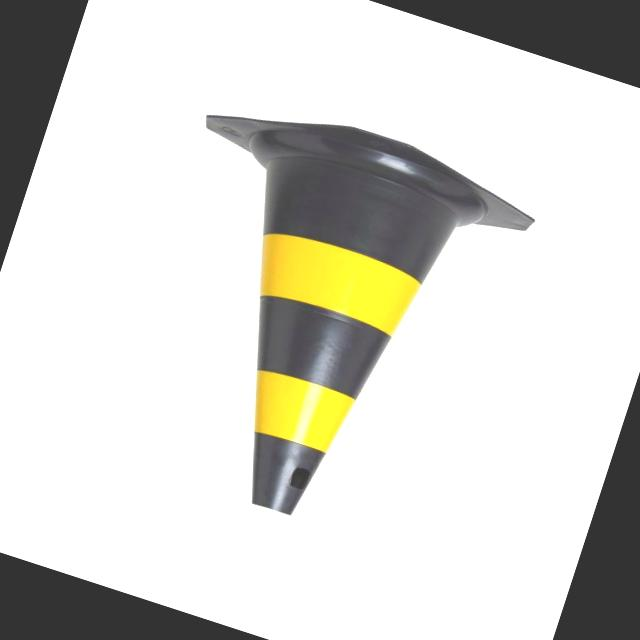cone: (101, 82, 544, 564)
